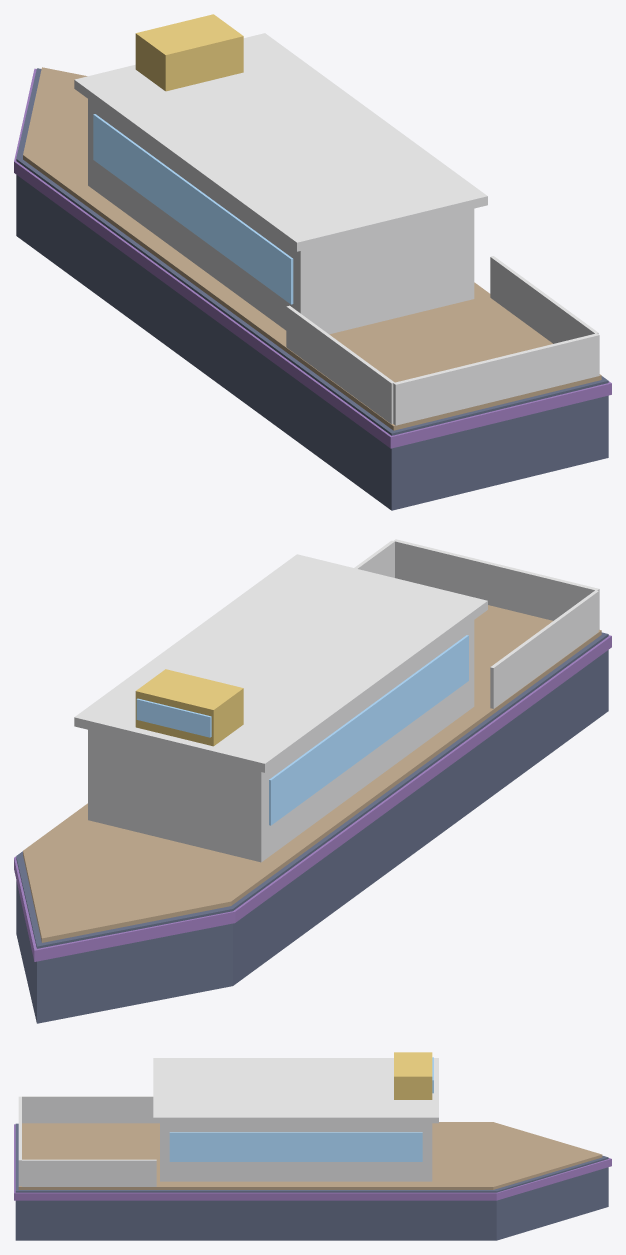
The model's file is ferry.glb.
The picture shows the model from 3 angles, top to bottom: view 1: azimuth 30°, elevation 25°; view 2: azimuth 150°, elevation 25°; view 3: azimuth 270°, elevation 25°; orthographic projection. The views are drawn at different scales.
Visible parts, largest first — view 1: ferry-white, ferry-hull, ferry-deck, ferry-glass, ferry-violet, ferry-gold; view 2: ferry-white, ferry-hull, ferry-deck, ferry-glass, ferry-violet, ferry-gold; view 3: ferry-white, ferry-hull, ferry-deck, ferry-glass, ferry-violet, ferry-gold.
Boxes of the visible parts, x1,y1,x2,y2 form: ferry-white: (74, 33, 599, 425); ferry-hull: (16, 68, 608, 510); ferry-deck: (23, 67, 601, 430); ferry-glass: (93, 114, 293, 304); ferry-violet: (14, 68, 611, 448); ferry-gold: (135, 14, 243, 91); ferry-white: (74, 539, 599, 862); ferry-hull: (16, 632, 608, 1023); ferry-deck: (23, 605, 601, 942); ferry-glass: (136, 635, 468, 825); ferry-violet: (14, 635, 611, 961); ferry-gold: (135, 669, 243, 746); ferry-white: (18, 1058, 438, 1186); ferry-hull: (15, 1123, 608, 1240); ferry-deck: (18, 1122, 602, 1189); ferry-glass: (169, 1057, 433, 1161); ferry-violet: (14, 1124, 611, 1200); ferry-gold: (394, 1052, 432, 1099).
Size of the model in its own units: 5.1 by 4.9 by 18.65.
